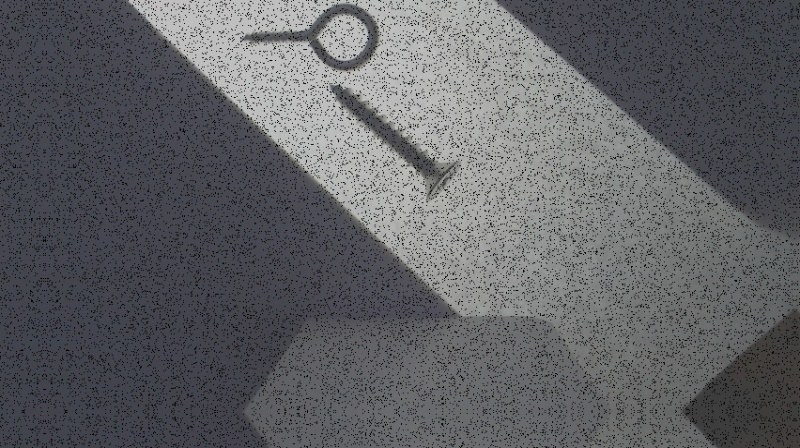O001: (240, 2, 380, 70)
S001: (326, 80, 463, 203)
